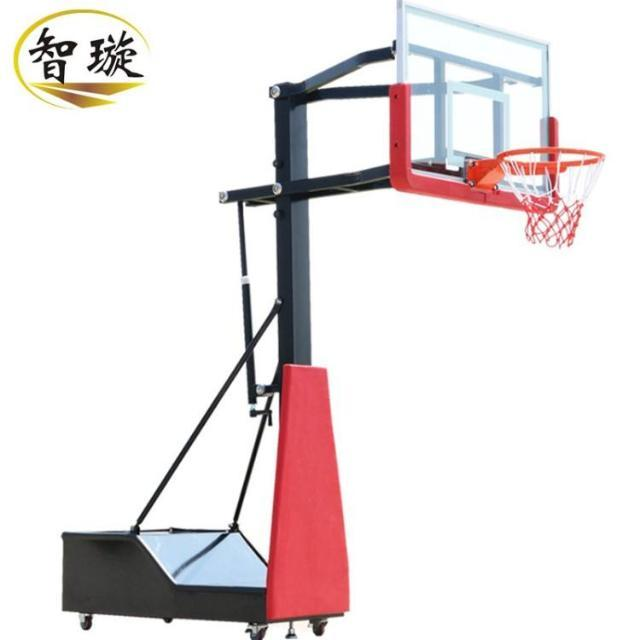rim: (500, 145, 604, 247)
